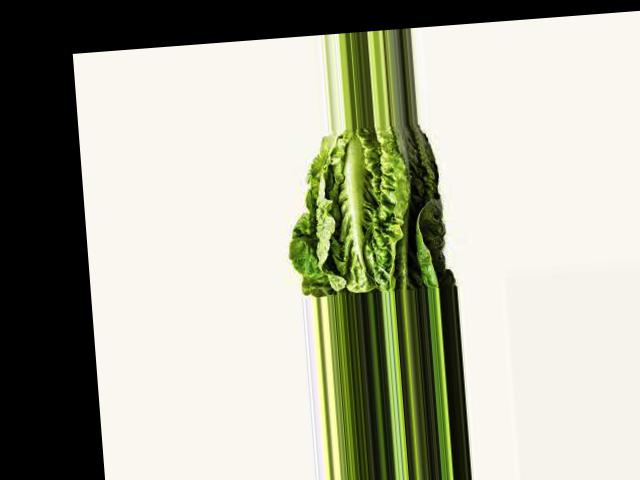lettuce: (293, 124, 444, 292)
